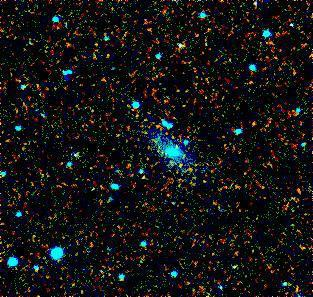star: (111, 145, 141, 175)
